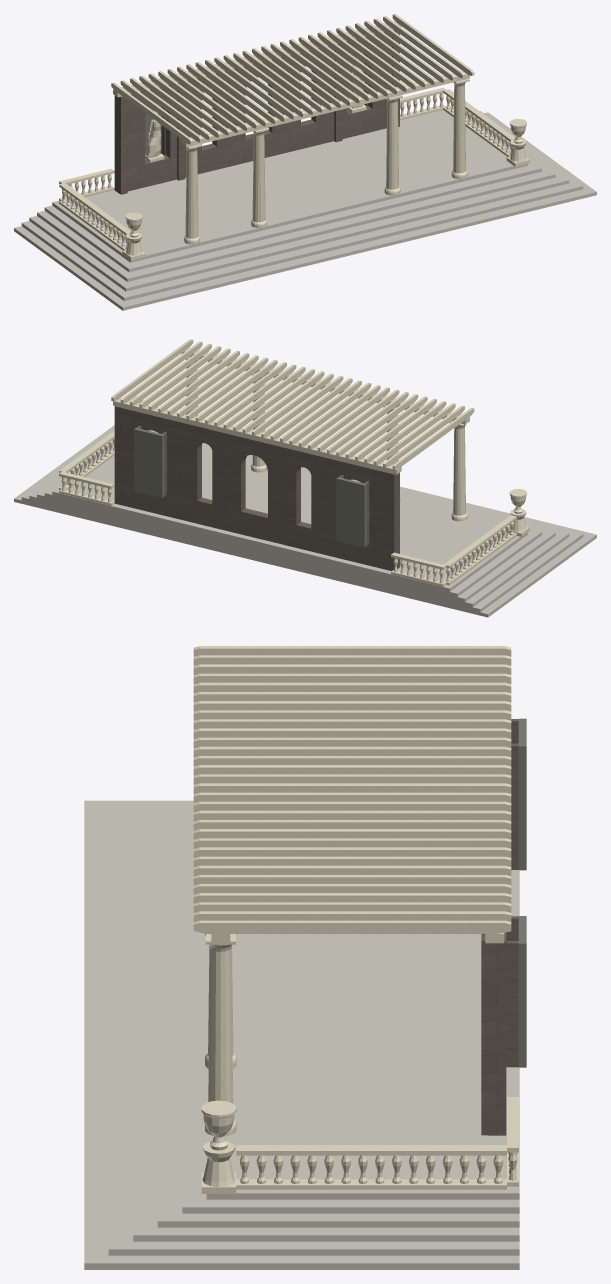
Rendered from lod-source.glb.
3 renders of one model, top to bottom at view 1: azimuth 30°, elevation 25°; view 2: azimuth 150°, elevation 25°; view 3: azimuth 270°, elevation 25°, orthographic. The views are drawn at different scales.
Visible parts, largest first — view 1: 中山公园大理石亭; view 2: 中山公园大理石亭; view 3: 中山公园大理石亭.
Boxes of the visible parts, box(x1,y1,x2,y2) form: 中山公园大理石亭: box(14, 14, 596, 310); 中山公园大理石亭: box(14, 339, 596, 617); 中山公园大理石亭: box(84, 646, 526, 1269).
Bounding box in the file's own units: 18.7 × 4.78 × 7.56.
4 materials, 2 textured.
